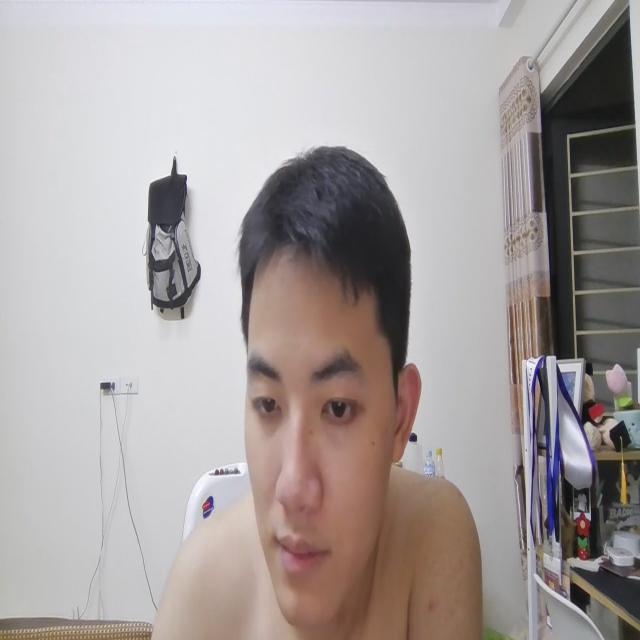student: (219, 129, 430, 623)
